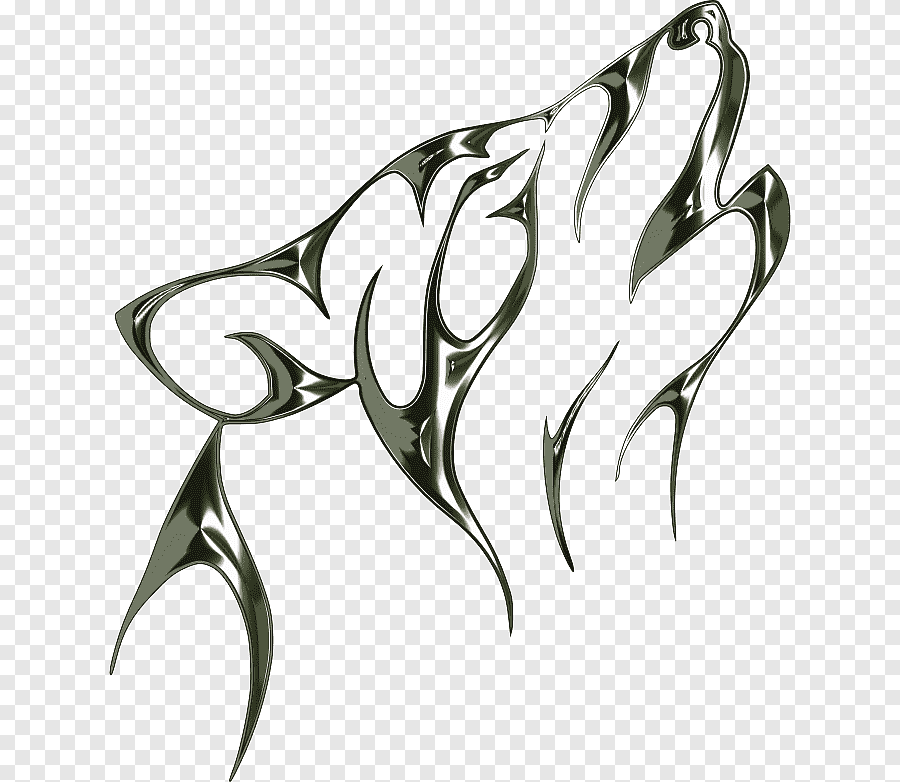Lobo: (103, 1, 812, 697)
